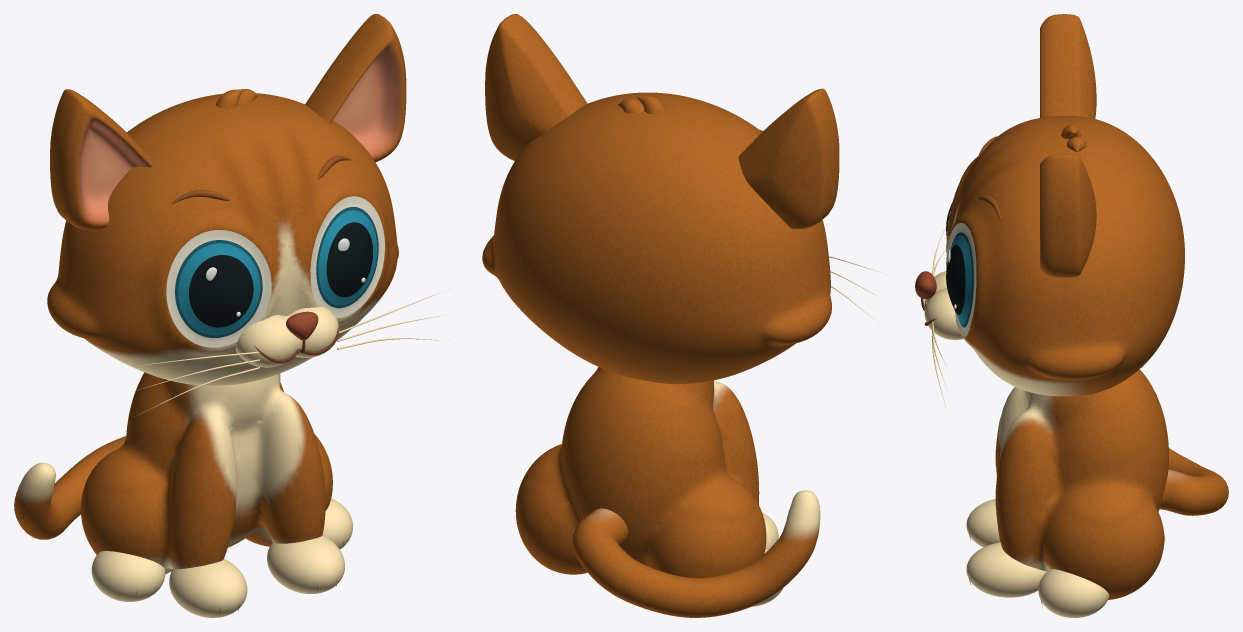
Rendered from kitten.glb.
3 renders of one model, left to right at view 1: azimuth 30°, elevation 25°; view 2: azimuth 150°, elevation 25°; view 3: azimuth 270°, elevation 25°, orthographic. The views are drawn at different scales.
Visible parts, largest first — view 1: Head | continuous sculpt, Body | seated torso and limbs, Ear 1 | rounded shell, Ear -1 | rounded shell, Tail | curled with cream tip, Pupil -1, Forepaw 1, Muzzle | paired cream pads, Forepaw -1, Eye ivory -1, Hind paw -1, Pupil 1 (+7 smaller); view 2: Head | continuous sculpt, Body | seated torso and limbs, Tail | curled with cream tip, Ear -1 | rounded shell, Ear 1 | rounded shell; view 3: Head | continuous sculpt, Body | seated torso and limbs, Ear 1 | rounded shell, Ear -1 | rounded shell, Tail | curled with cream tip, Forepaw 1, Hind paw 1, Muzzle | paired cream pads, Forepaw -1, Pupil 1, Eye ivory 1, Blue iris 1 (+1 smaller).
Part boxes in pixels (x1,y1,x2,y2): Head | continuous sculpt: (47,93,398,385); Body | seated torso and limbs: (81,372,332,574); Ear 1 | rounded shell: (305,14,406,162); Ear -1 | rounded shell: (50,89,153,230); Tail | curled with cream tip: (14,436,126,539); Pupil -1: (189,255,253,327); Forepaw 1: (267,535,344,593); Muzzle | paired cream pads: (235,307,339,367); Forepaw -1: (169,559,247,617); Eye ivory -1: (166,230,271,347); Hind paw -1: (91,551,165,601); Pupil 1: (326,222,372,297); Head | continuous sculpt: (482,92,831,384); Body | seated torso and limbs: (515,367,766,577); Tail | curled with cream tip: (572,490,820,617); Ear -1 | rounded shell: (738,88,839,229); Ear 1 | rounded shell: (485,14,587,160); Head | continuous sculpt: (946,116,1184,396); Body | seated torso and limbs: (995,369,1168,599); Ear 1 | rounded shell: (1040,154,1096,277); Ear -1 | rounded shell: (1040,14,1096,118); Tail | curled with cream tip: (1159,448,1228,515); Forepaw 1: (966,542,1046,597); Hind paw 1: (1038,569,1109,617); Muzzle | paired cream pads: (924,271,963,339); Forepaw -1: (966,499,1000,547); Pupil 1: (946,244,965,315); Eye ivory 1: (946,223,976,336); Blue iris 1: (951,235,971,324).
Bounding box in the file's own units: 2.64 × 3.71 × 2.18.
Materials: 11 (1 with a texture image).
